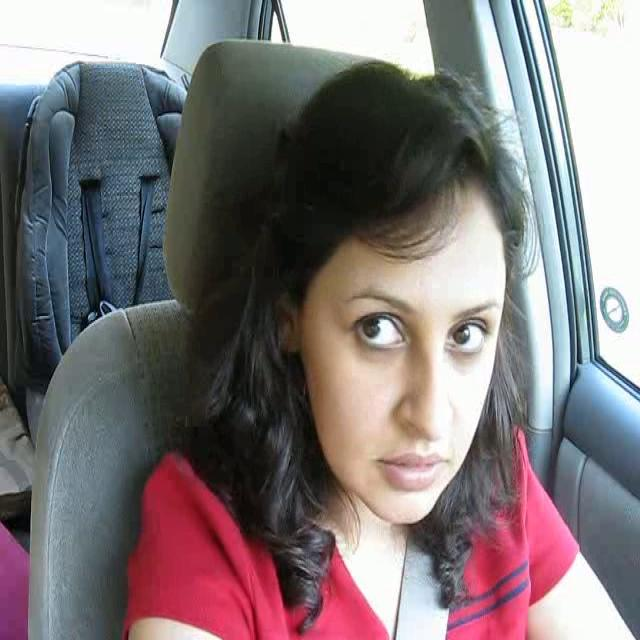close: (376, 452, 447, 496)
